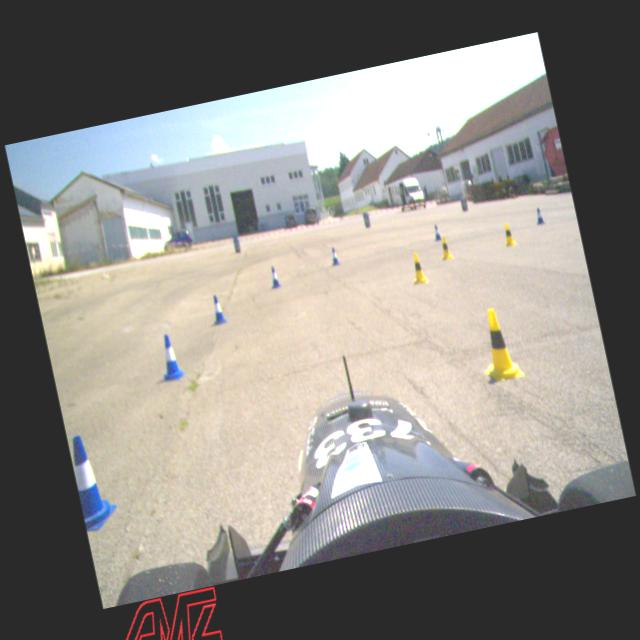blue_cone: (66, 430, 120, 532), (154, 332, 186, 382), (208, 294, 227, 326), (267, 264, 282, 289), (328, 246, 340, 266), (534, 206, 546, 226), (432, 224, 442, 242)
yellow_cone: (472, 304, 526, 384), (407, 250, 428, 285), (436, 234, 454, 261), (500, 222, 516, 246)
